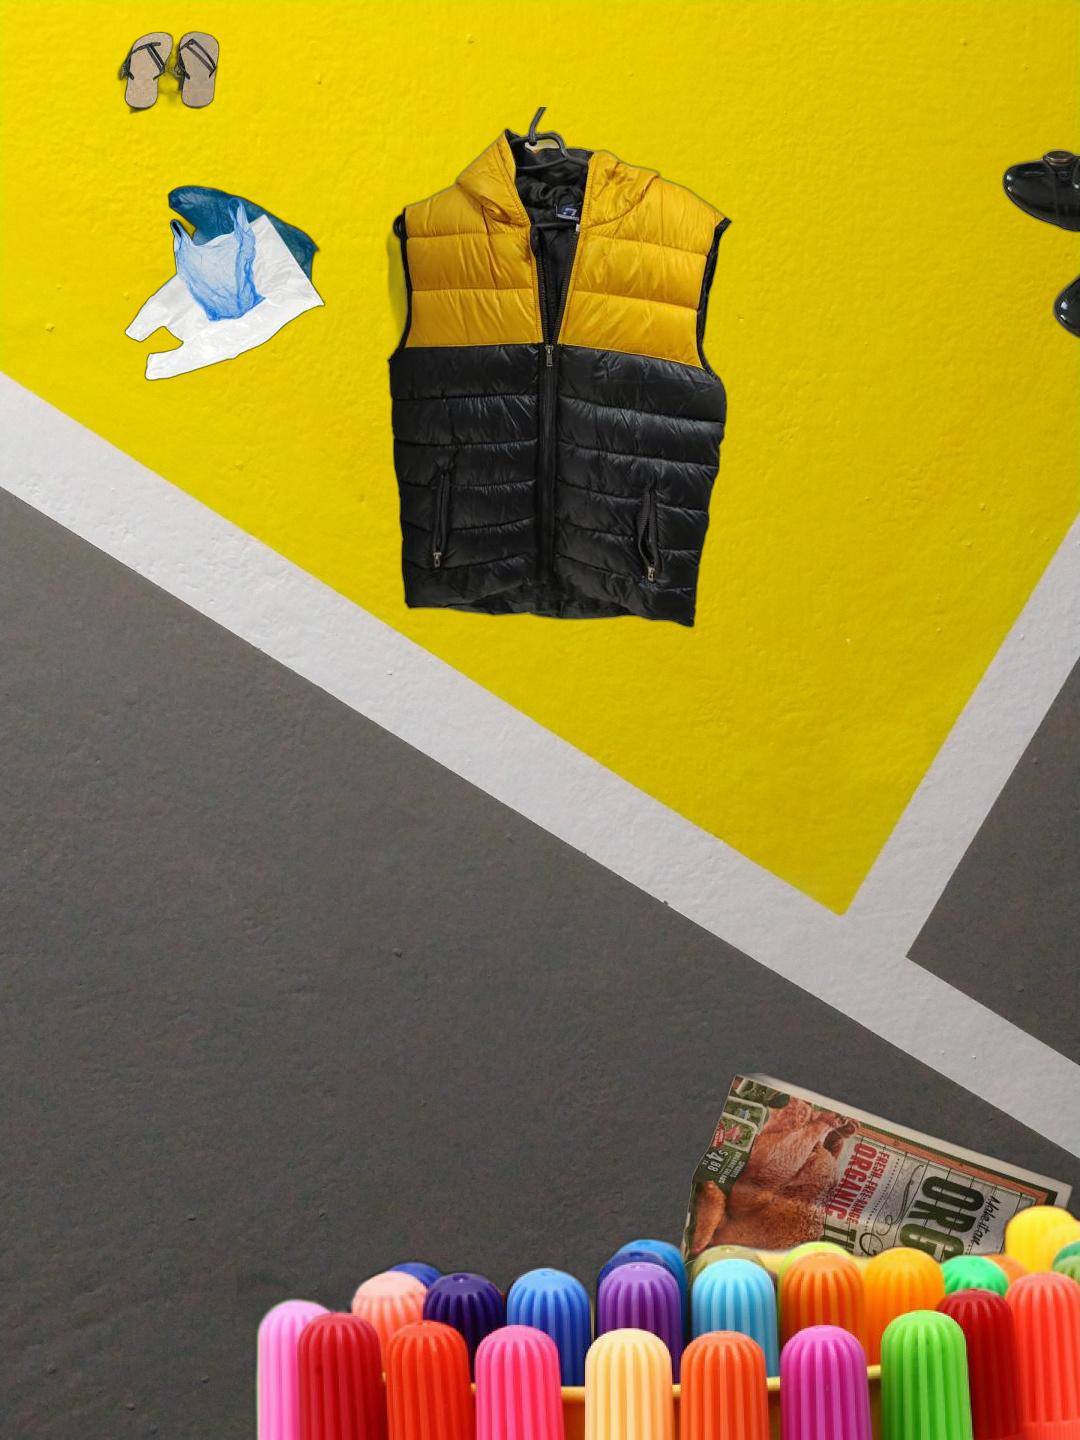clothes: (383, 107, 736, 633)
paper: (653, 1073, 1078, 1440)
penholder: (237, 1197, 1080, 1440)
plastic-bag: (123, 183, 327, 384)
shoes: (999, 100, 1080, 354), (112, 29, 222, 116)
